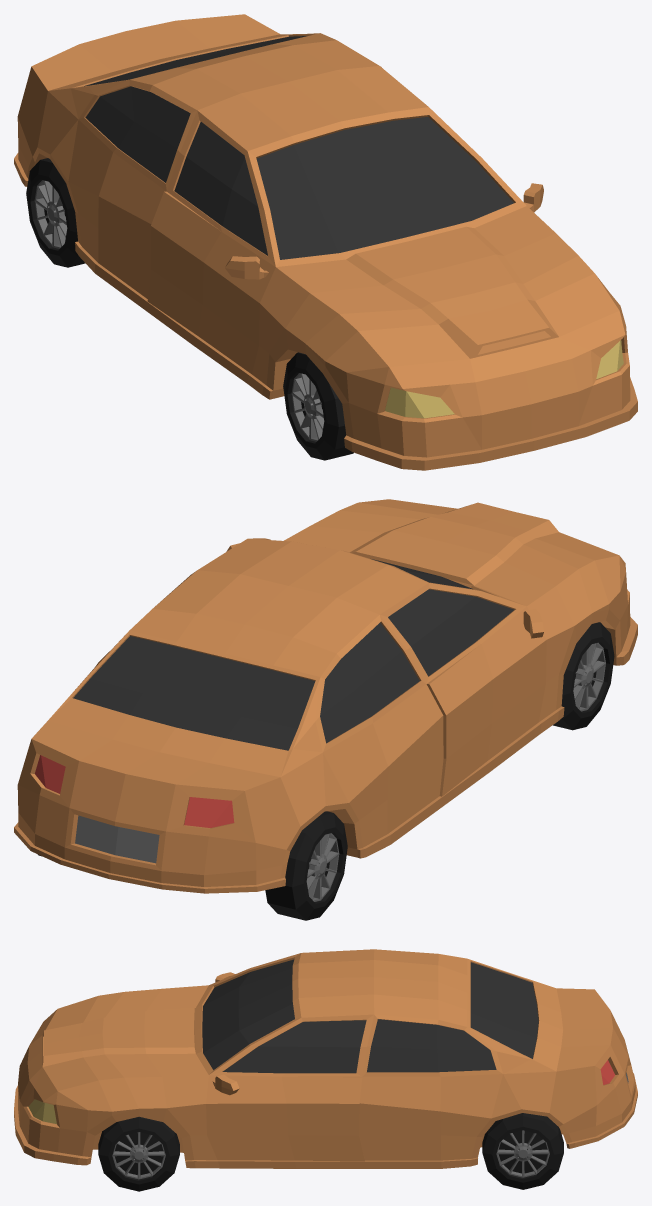
Rendered from coupe.glb.
3 renders of one model, top to bottom at view 1: azimuth 30°, elevation 25°; view 2: azimuth 150°, elevation 25°; view 3: azimuth 270°, elevation 25°, orthographic. The views are drawn at different scales.
Parts seen in each view (by area): view 1: coupe; view 2: coupe; view 3: coupe.
Boxes of the visible parts, x1,y1,x2,y2 form: coupe: [14, 14, 637, 470]; coupe: [14, 499, 637, 920]; coupe: [14, 949, 637, 1191].
Size of the model in its own units: 1.95 by 1.31 by 4.5.
